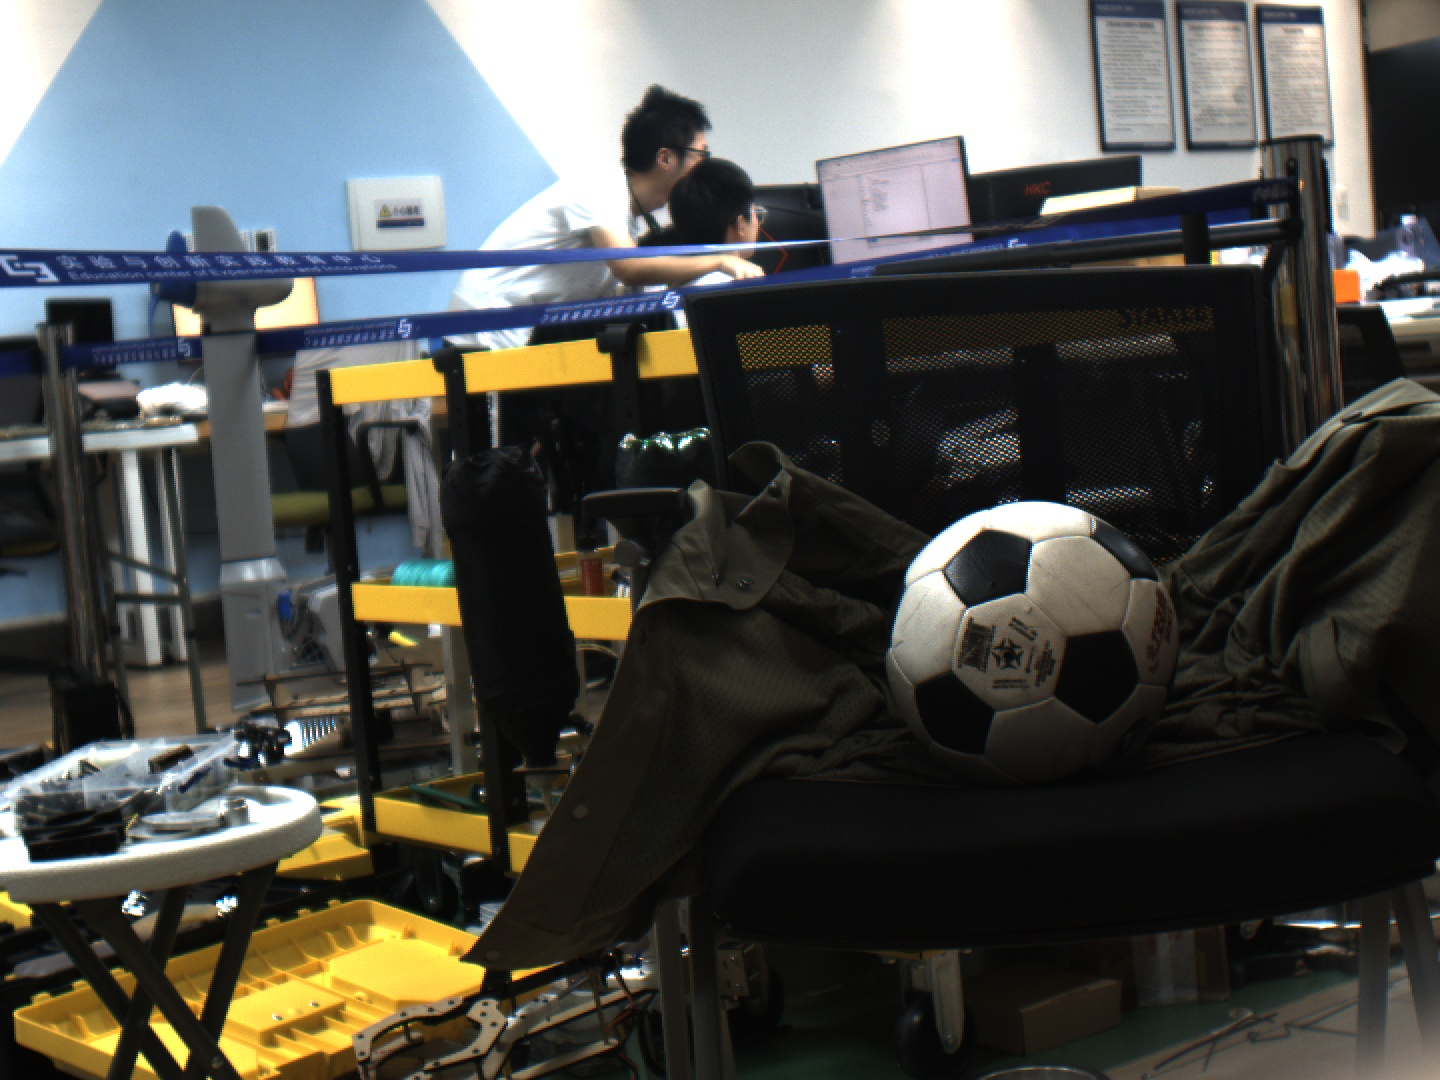ball: (888, 499, 1186, 783)
